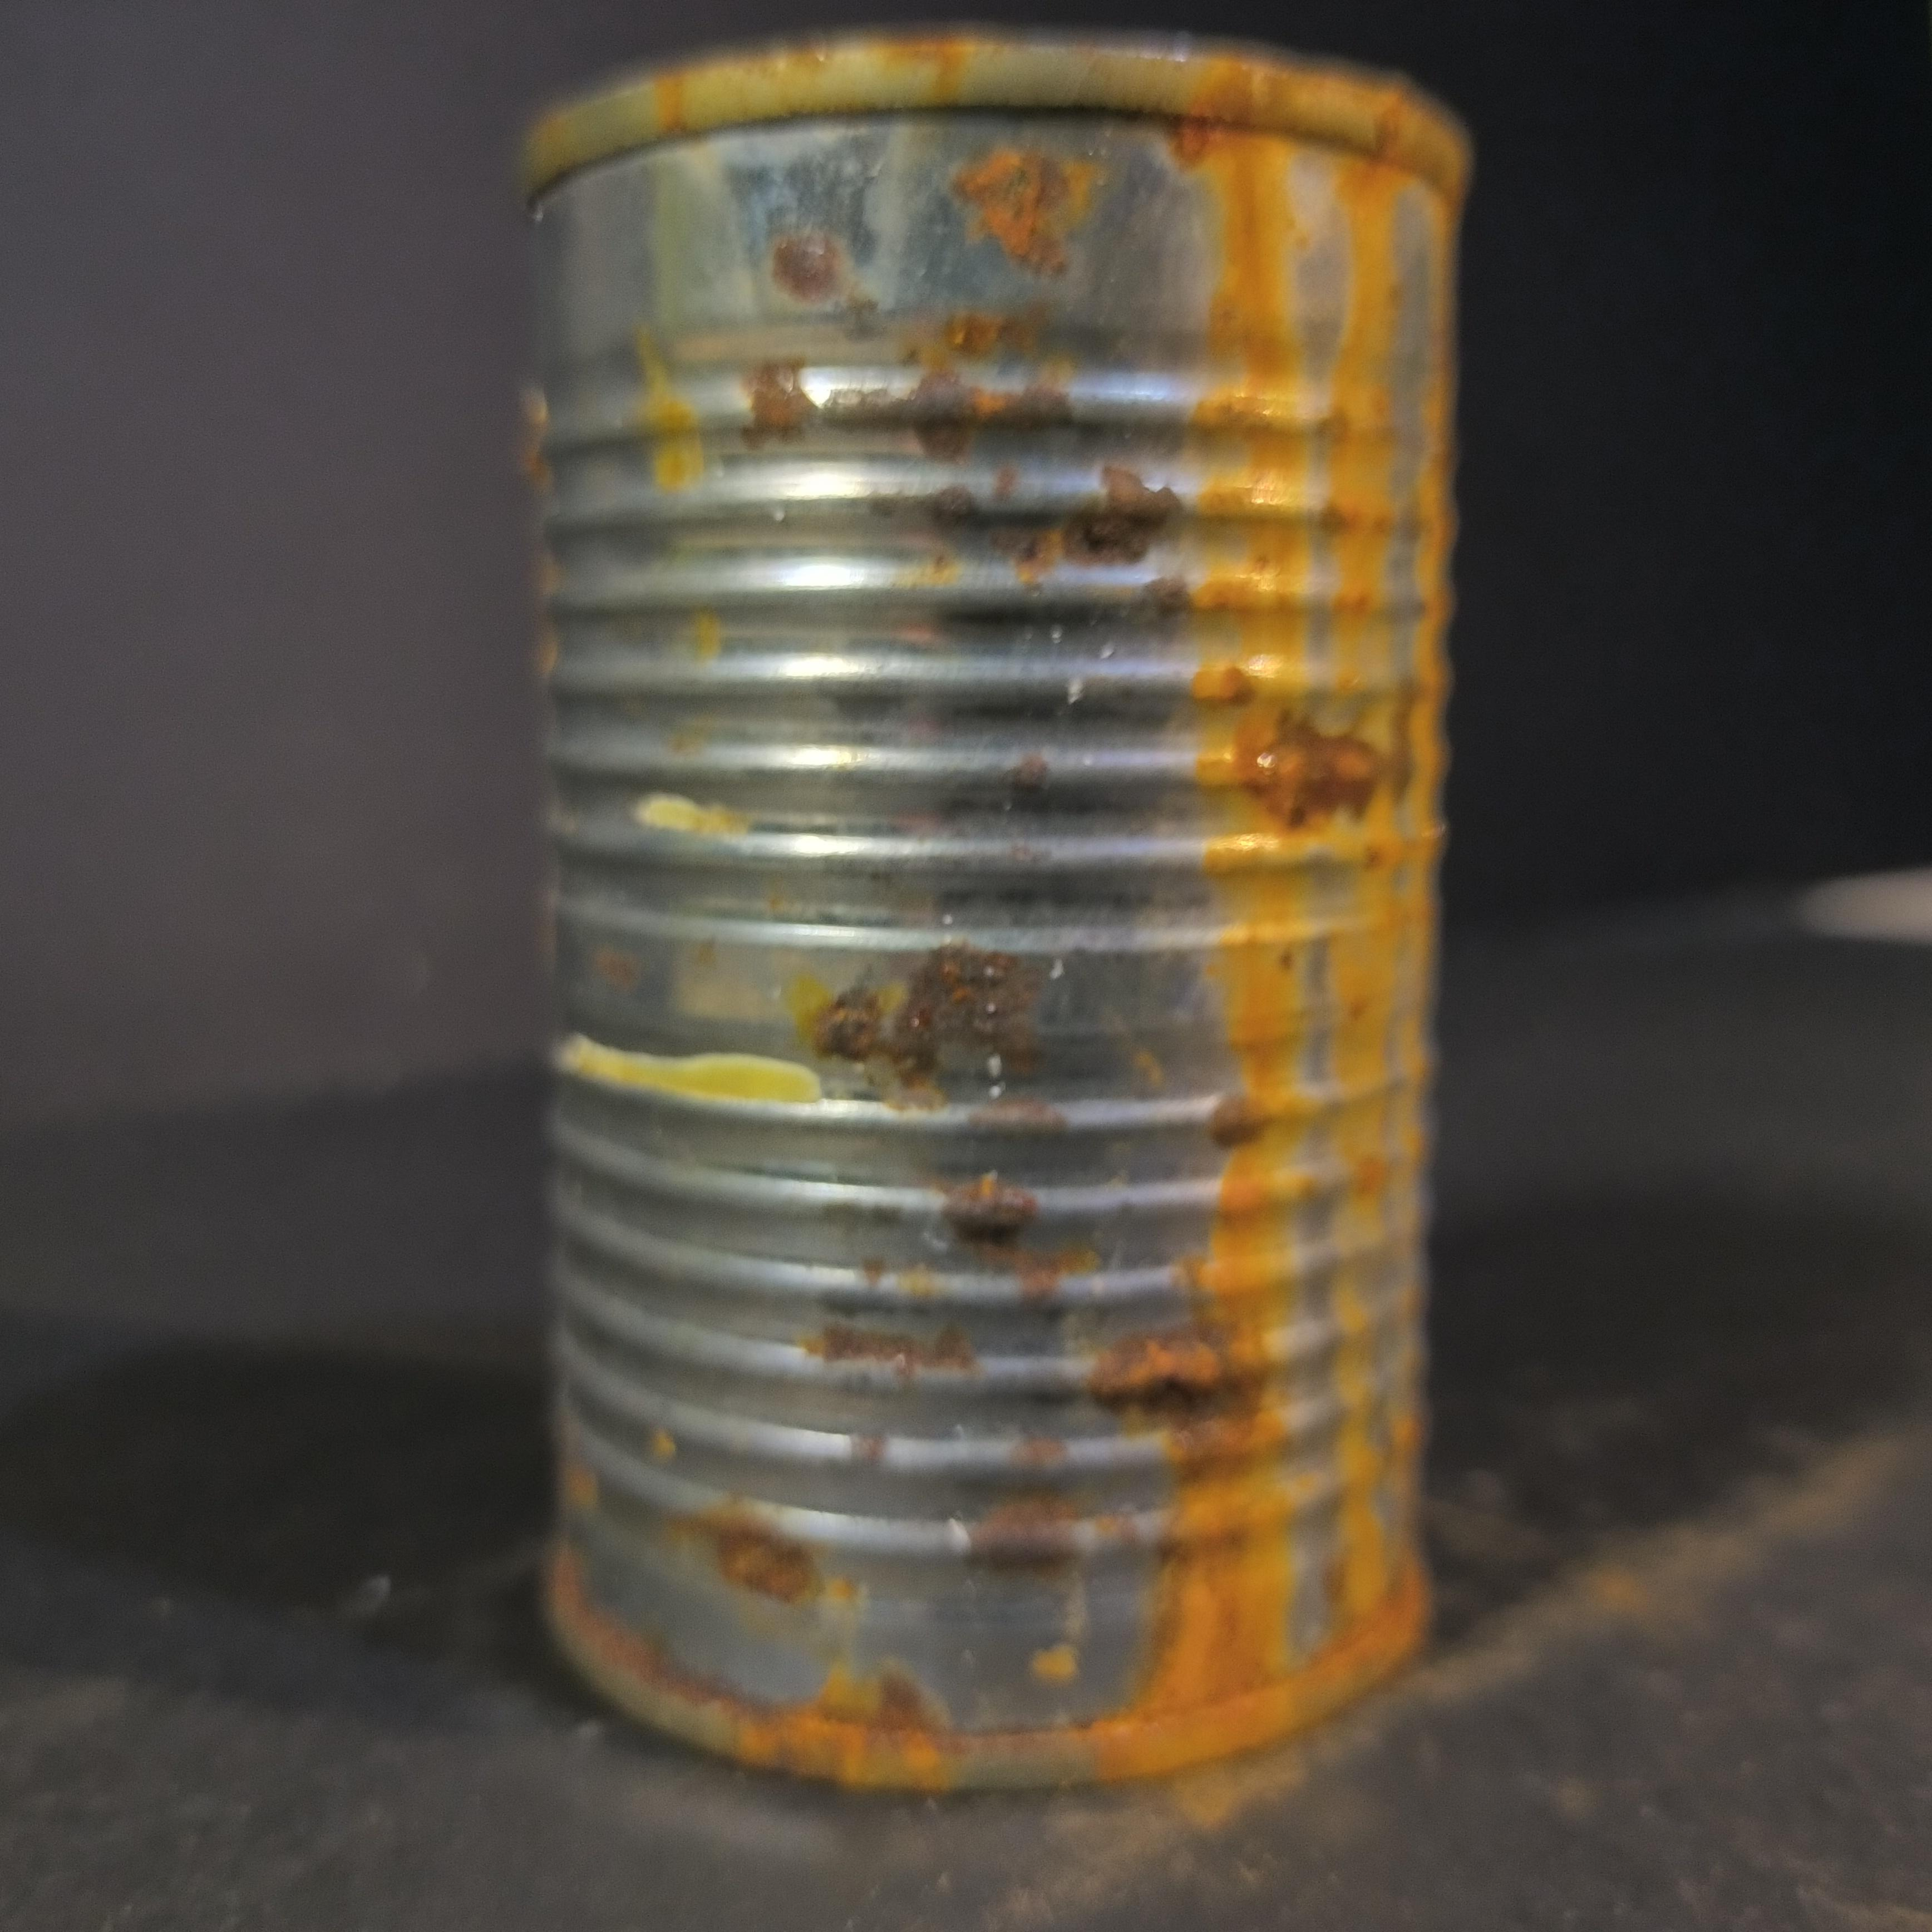Rusted: (481, 16, 1467, 1799)
